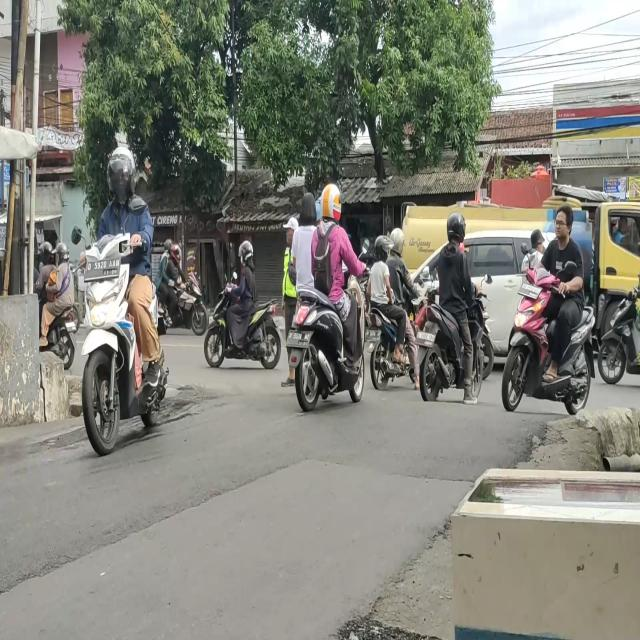helmet: (110, 155, 138, 200), (324, 188, 341, 222), (448, 214, 465, 243), (372, 235, 387, 264), (391, 226, 403, 251)
no-helmet: (300, 194, 315, 224), (554, 212, 570, 238)
